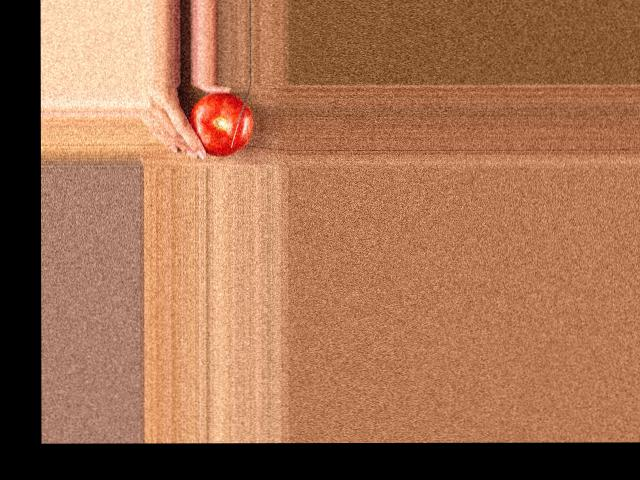tomato: (188, 92, 252, 155)
